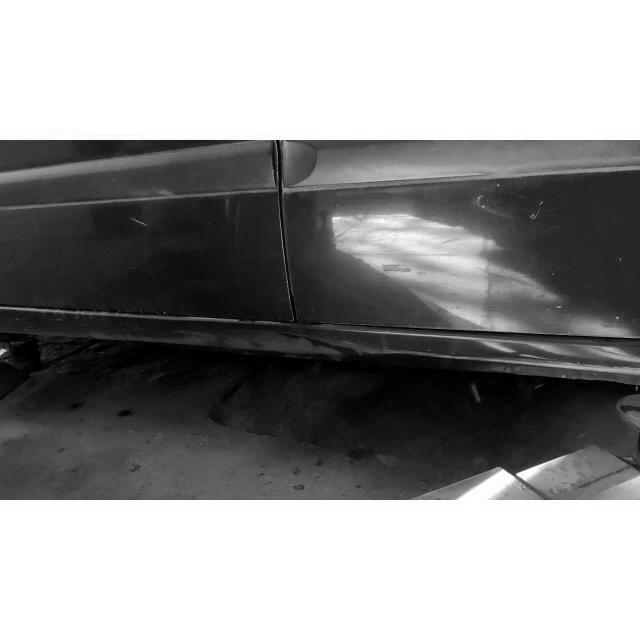Runningboard-Damage: (303, 319, 640, 388), (2, 303, 305, 368)
